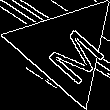M_NW: (30, 15, 100, 82)
